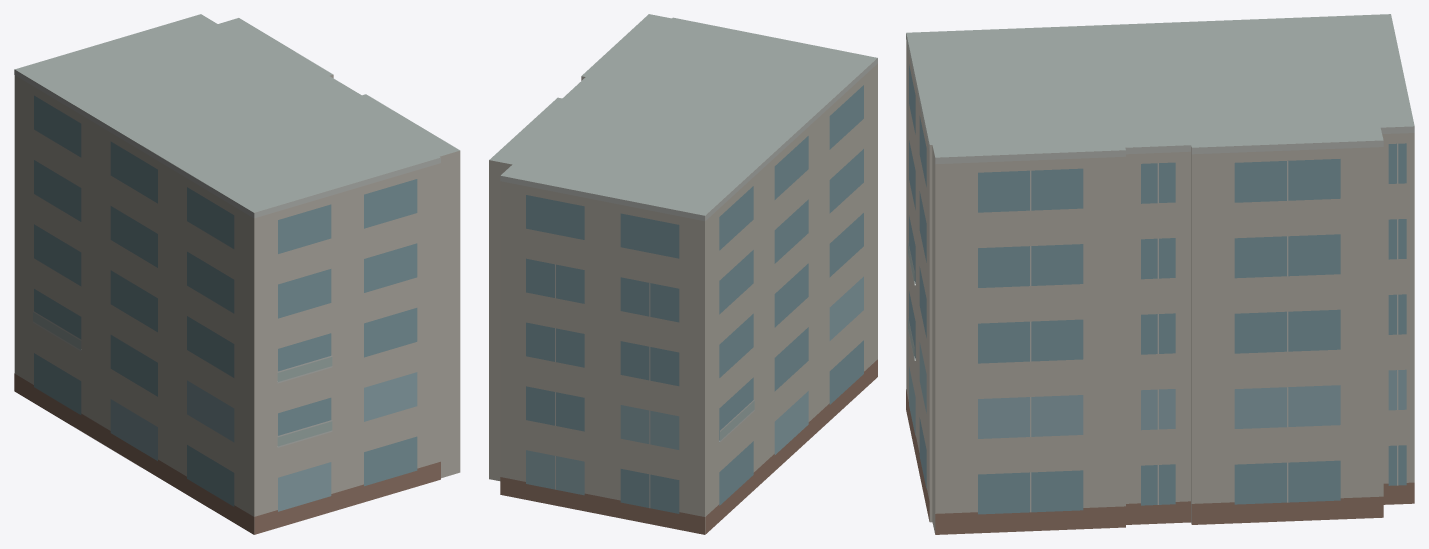
Rendered from survey-upis-32615480.glb.
3 renders of one model, left to right at view 1: azimuth 30°, elevation 25°; view 2: azimuth 150°, elevation 25°; view 3: azimuth 270°, elevation 25°, orthographic. The views are drawn at different scales.
Parts seen in each view (by area): view 1: survey-upis-32615480.tmp; view 2: survey-upis-32615480.tmp; view 3: survey-upis-32615480.tmp.
Boxes of the visible parts, x1,y1,x2,y2 form: survey-upis-32615480.tmp: (14,14,460,534); survey-upis-32615480.tmp: (489,14,877,534); survey-upis-32615480.tmp: (906,14,1414,534).
Size of the model in its own units: 11.53 by 14.1 by 17.24.
